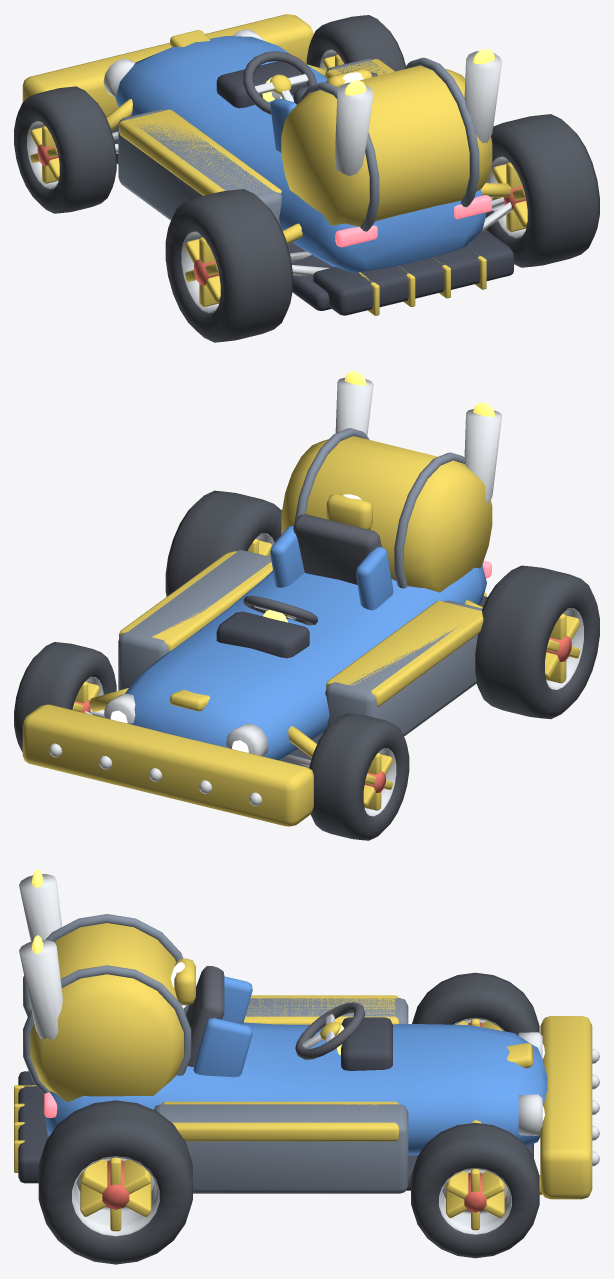
The model's file is engrenagem_turbo.glb.
3 renders of one model, top to bottom at view 1: azimuth 30°, elevation 25°; view 2: azimuth 150°, elevation 25°; view 3: azimuth 270°, elevation 25°, orthographic. The views are drawn at different scales.
Parts seen in each view (by area): view 1: engrenagem-turbo_ChassisMesh, WheelRL_Mesh, WheelRR_Mesh, WheelFL_Mesh, WheelFR_Mesh, ExhaustL_Mesh, ExhaustR_Mesh, engrenagem-turbo_SteeringWheelMesh; view 2: engrenagem-turbo_ChassisMesh, WheelRL_Mesh, WheelFL_Mesh, WheelRR_Mesh, WheelFR_Mesh, ExhaustL_Mesh, ExhaustR_Mesh, engrenagem-turbo_SteeringWheelMesh; view 3: engrenagem-turbo_ChassisMesh, WheelRR_Mesh, WheelFR_Mesh, WheelFL_Mesh, ExhaustR_Mesh, ExhaustL_Mesh, engrenagem-turbo_SteeringWheelMesh.
Boxes of the visible parts, x1=… form: engrenagem-turbo_ChassisMesh: x1=22, y1=14, x2=513, y2=315; WheelRL_Mesh: x1=165, y1=189, x2=292, y2=342; WheelRR_Mesh: x1=485, y1=114, x2=599, y2=267; WheelFL_Mesh: x1=14, y1=86, x2=116, y2=213; WheelFR_Mesh: x1=306, y1=15, x2=405, y2=71; ExhaustL_Mesh: x1=334, y1=80, x2=373, y2=175; ExhaustR_Mesh: x1=464, y1=49, x2=501, y2=142; engrenagem-turbo_SteeringWheelMesh: x1=243, y1=51, x2=317, y2=114; engrenagem-turbo_ChassisMesh: x1=22, y1=428, x2=492, y2=826; WheelRL_Mesh: x1=475, y1=565, x2=599, y2=719; WheelFL_Mesh: x1=309, y1=713, x2=409, y2=840; WheelRR_Mesh: x1=165, y1=490, x2=281, y2=596; WheelFR_Mesh: x1=14, y1=642, x2=116, y2=752; ExhaustL_Mesh: x1=464, y1=402, x2=501, y2=504; ExhaustR_Mesh: x1=335, y1=371, x2=373, y2=435; engrenagem-turbo_SteeringWheelMesh: x1=243, y1=595, x2=317, y2=625; engrenagem-turbo_ChassisMesh: x1=14, y1=914, x2=599, y2=1199; WheelRR_Mesh: x1=38, y1=1100, x2=192, y2=1264; WheelFR_Mesh: x1=411, y1=1123, x2=539, y2=1258; WheelFL_Mesh: x1=412, y1=972, x2=539, y2=1035; ExhaustR_Mesh: x1=19, y1=935, x2=62, y2=1040; ExhaustL_Mesh: x1=19, y1=869, x2=62, y2=941; engrenagem-turbo_SteeringWheelMesh: x1=295, y1=1002, x2=365, y2=1059.
Bounding box in the file's own units: 2.08 × 1.38 × 2.7.
